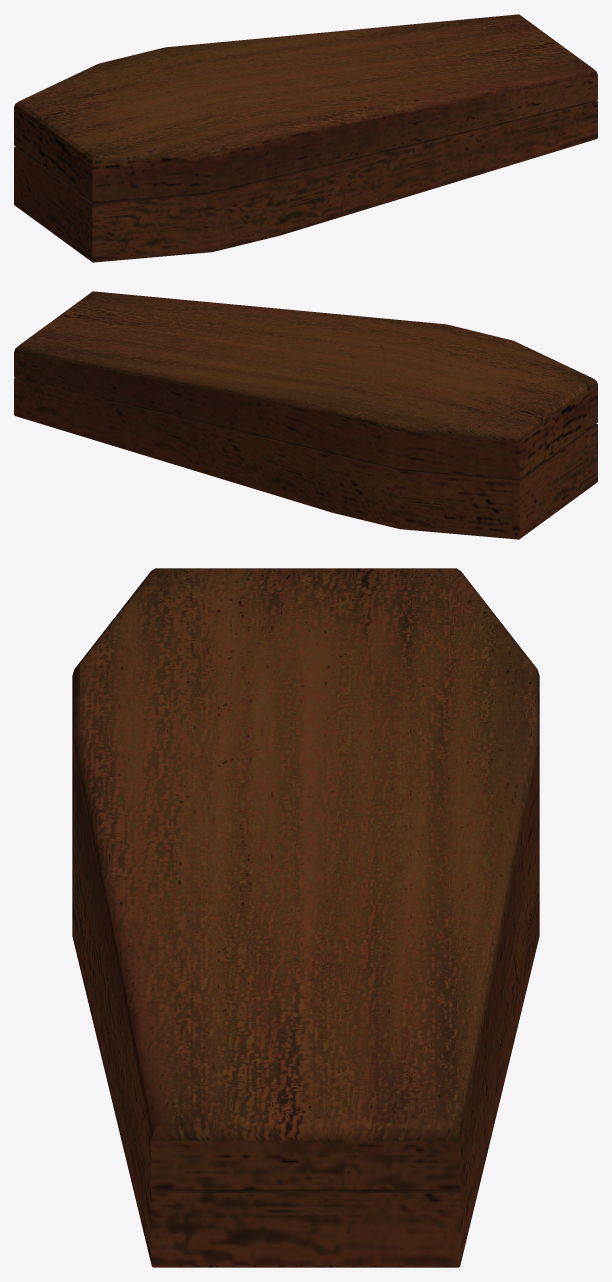
Rendered from Horror_Final_CoffinNoBlood.fbx.
3 views of the same model, one above another, from view 1: azimuth 30°, elevation 25°; view 2: azimuth 150°, elevation 25°; view 3: azimuth 270°, elevation 25° (orthographic). The views are drawn at different scales.
Visible parts, largest first — view 1: pCube6; view 2: pCube6; view 3: pCube6.
Part boxes in pixels (x1,y1,x2,y2): pCube6: (14, 14, 597, 262); pCube6: (14, 291, 597, 539); pCube6: (72, 568, 539, 1267).
Bounding box in the file's own units: 150 × 29.97 × 59.99.
1 material, 1 textured.
